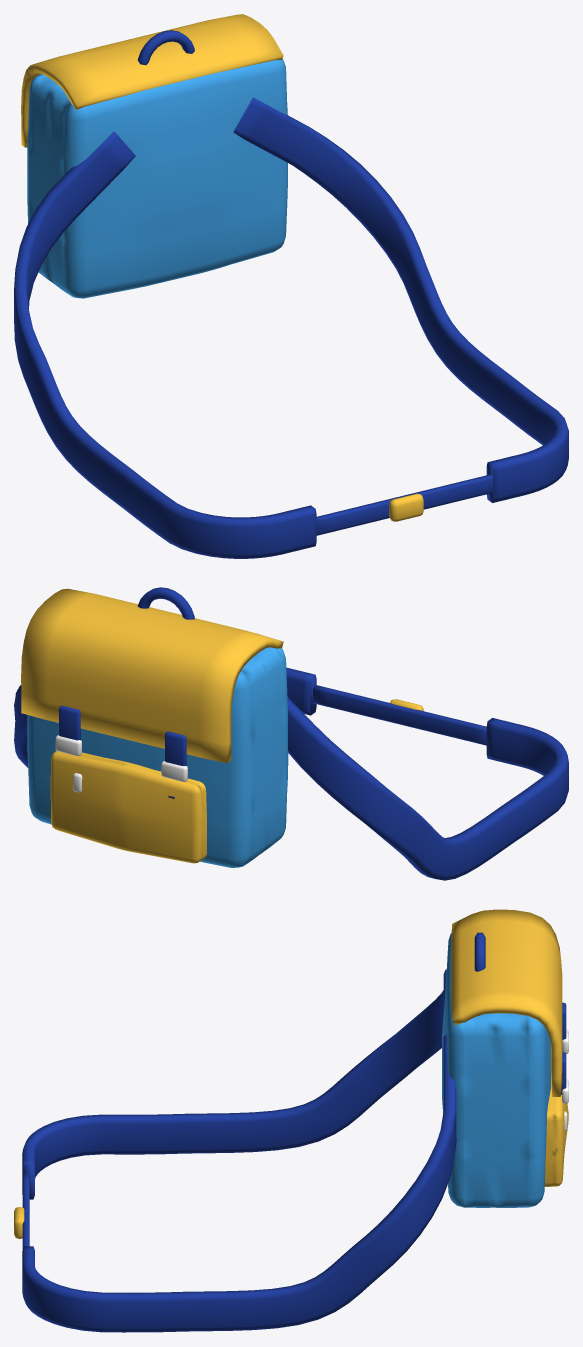
Rendered from backpack-monkey.glb.
3 renders of one model, top to bottom at view 1: azimuth 30°, elevation 25°; view 2: azimuth 150°, elevation 25°; view 3: azimuth 270°, elevation 25°, orthographic. The views are drawn at different scales.
Parts seen in each view (by area): view 1: pack, strap.001, strap, flap, chest, handle, clip.002; view 2: flap, pack, strap.001, pocketbox, chest, strap, handle, tab.001, tab, clip, clip.001; view 3: strap, pack, strap.001, flap, pocketbox, chest.
Part boxes in pixels (bbox=[...]): pack: bbox=[27, 59, 287, 298]; strap.001: bbox=[14, 131, 316, 558]; strap: bbox=[233, 97, 568, 502]; flap: bbox=[21, 14, 283, 147]; chest: bbox=[316, 474, 492, 535]; handle: bbox=[137, 30, 194, 65]; clip.002: bbox=[389, 493, 423, 521]; flap: bbox=[21, 588, 283, 763]; pack: bbox=[27, 647, 288, 867]; strap.001: bbox=[287, 697, 568, 880]; pocketbox: bbox=[50, 751, 206, 863]; chest: bbox=[313, 685, 486, 745]; strap: bbox=[14, 667, 316, 767]; handle: bbox=[137, 587, 194, 619]; tab.001: bbox=[165, 731, 186, 765]; tab: bbox=[59, 705, 80, 740]; clip: bbox=[55, 735, 81, 755]; clip.001: bbox=[161, 761, 187, 781]; strap: bbox=[22, 1034, 456, 1332]; pack: bbox=[442, 933, 550, 1207]; strap.001: bbox=[22, 969, 446, 1199]; flap: bbox=[451, 909, 562, 1096]; pocketbox: bbox=[544, 1085, 568, 1186]; chest: bbox=[22, 1173, 29, 1249].
Size of the model in its own units: 1.34 by 1.04 by 1.71.
